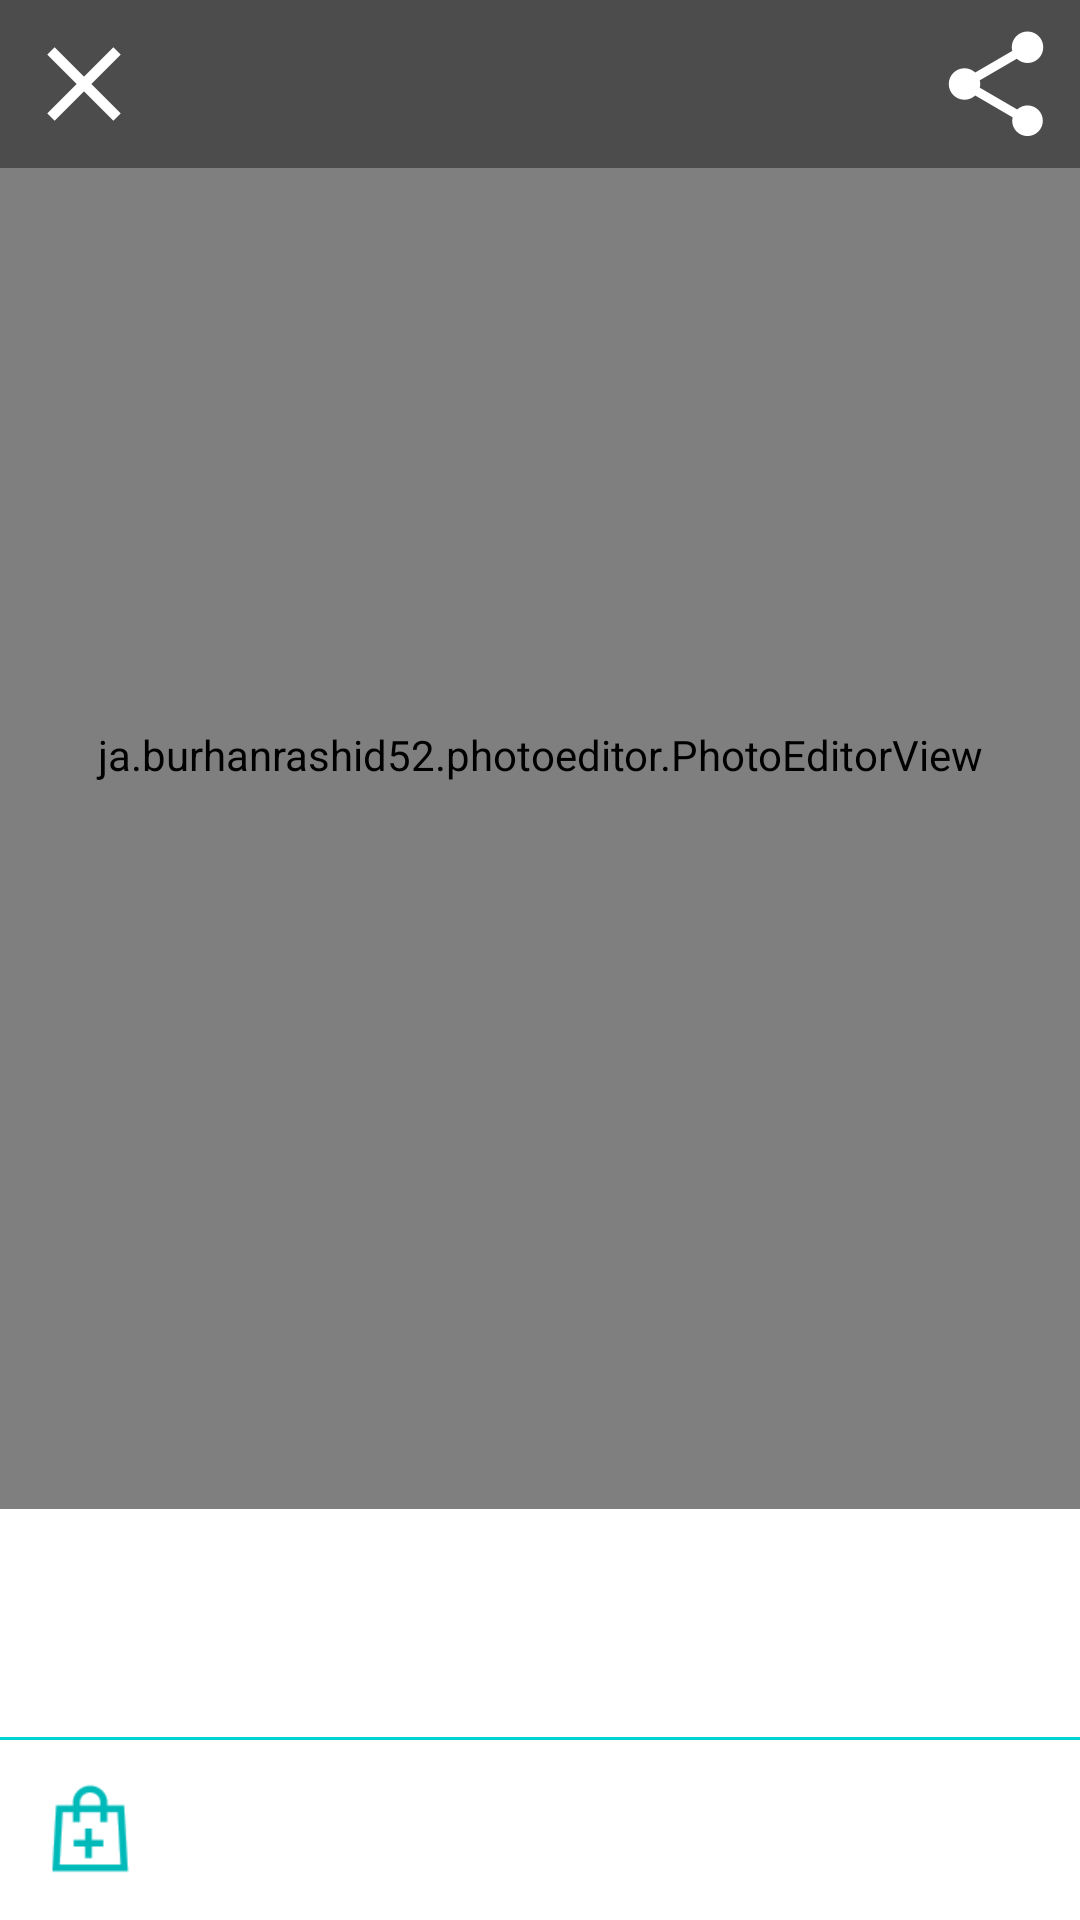

Icon bounding boxes for this 1080*1920 phone screenshot, format (x1, y1, x2, y2):
close: (47, 47, 121, 121)
plus: (52, 1785, 129, 1872)
share: (948, 31, 1044, 136)
